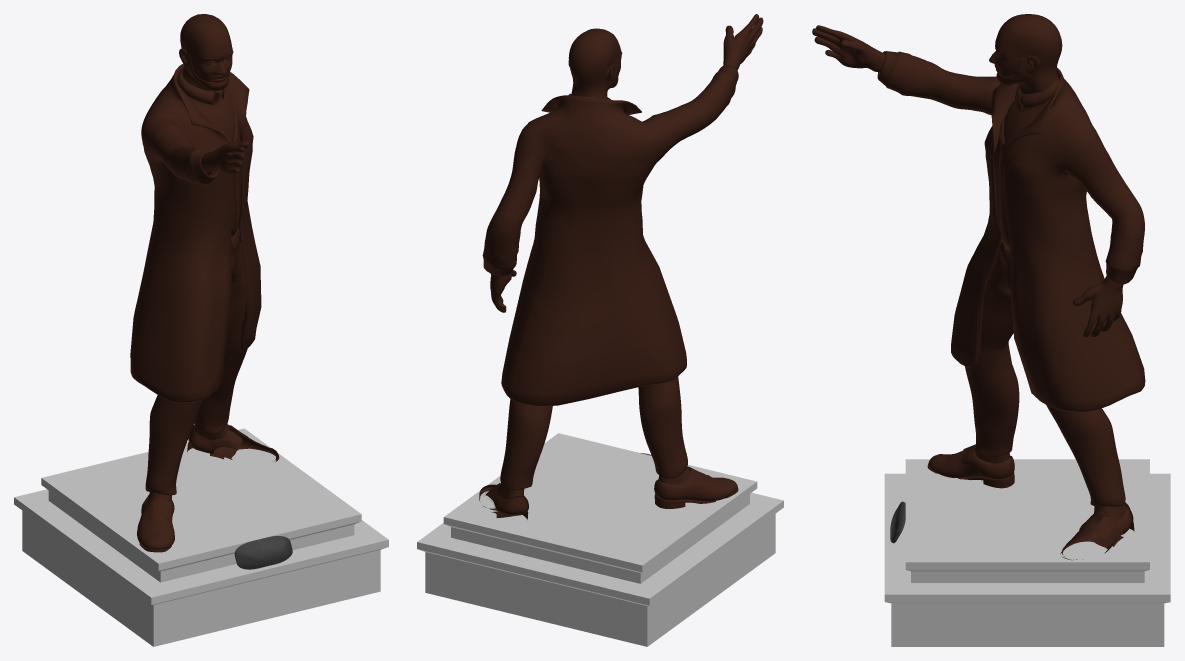
Rendered from statue.fbx.
3 views of the same model, side by side, from view 1: azimuth 30°, elevation 25°; view 2: azimuth 150°, elevation 25°; view 3: azimuth 270°, elevation 25° (orthographic). The views are drawn at different scales.
Parts seen in each view (by area): view 1: pedestal, statue, sign; view 2: statue, pedestal; view 3: statue, pedestal.
Boxes of the visible parts, box(x1,y1,x2,y2) form: pedestal: box(14, 428, 388, 646); statue: box(130, 14, 279, 552); sign: box(234, 536, 292, 569); statue: box(479, 14, 763, 519); pedestal: box(417, 433, 783, 646); statue: box(812, 14, 1145, 560); pedestal: box(884, 459, 1170, 646).
Size of the model in its own units: 303 by 673 by 380.
